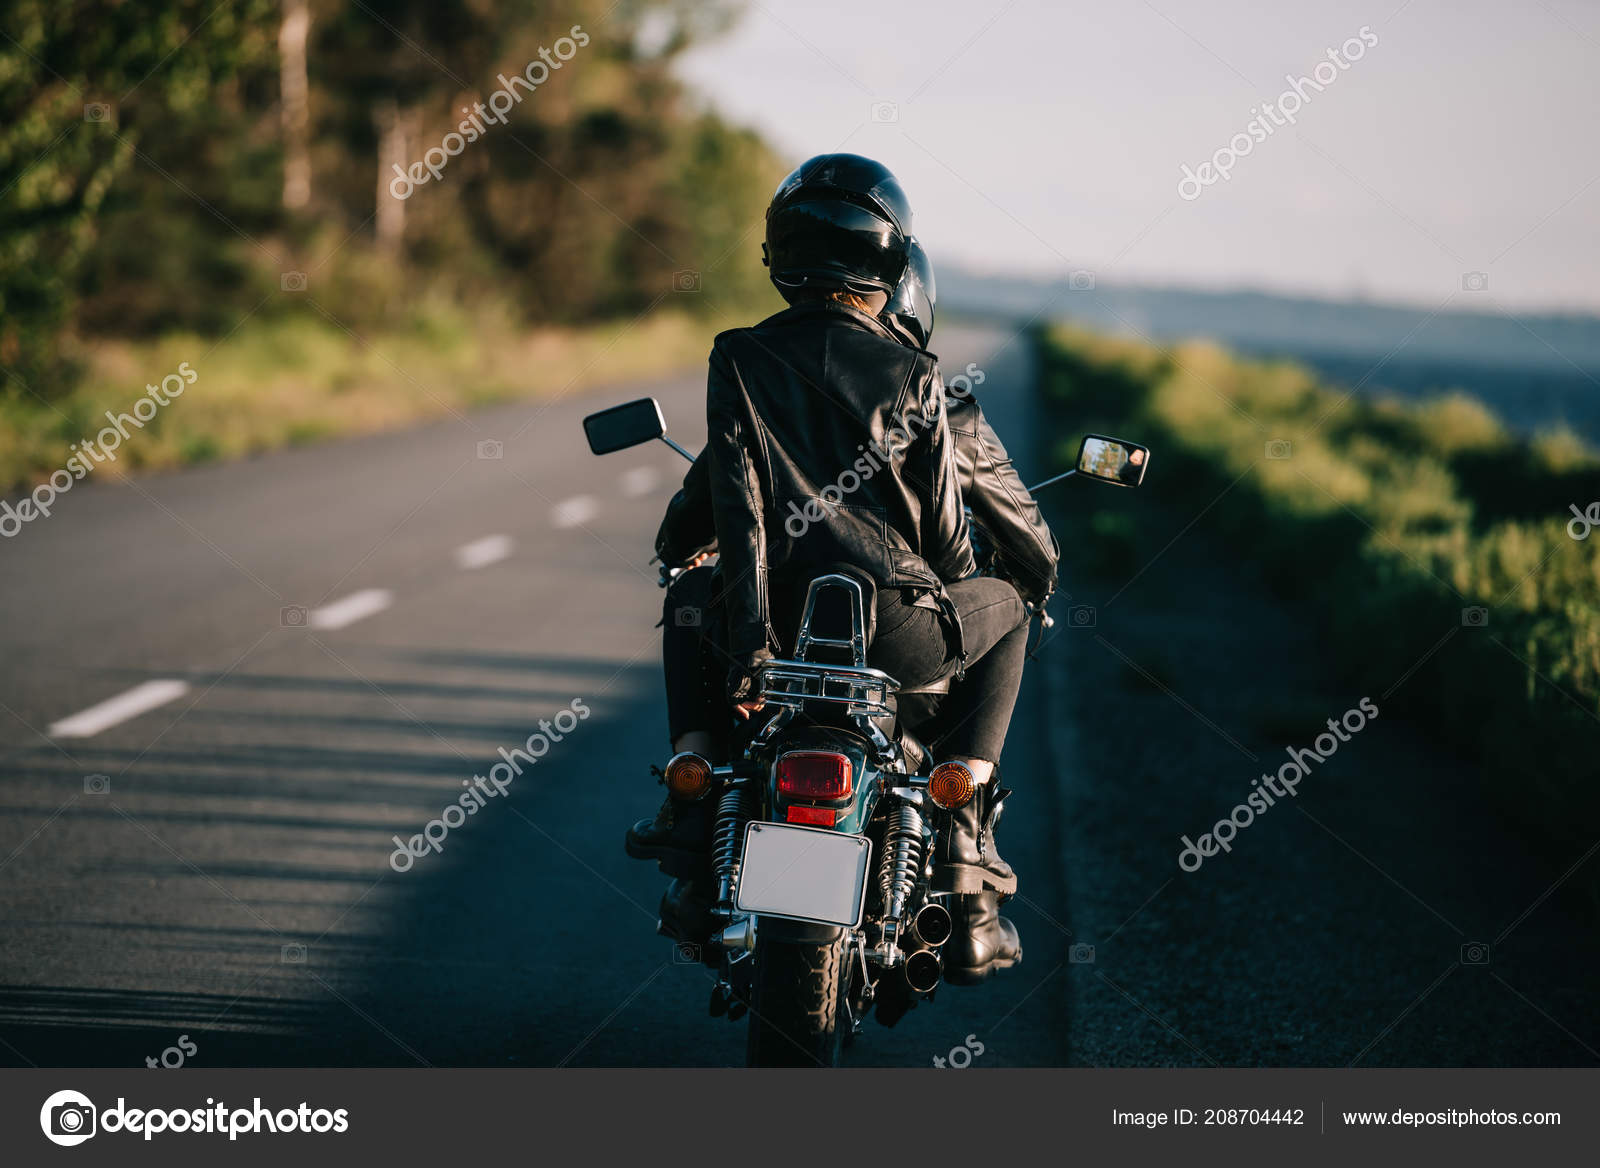helmet: (737, 152, 917, 301)
